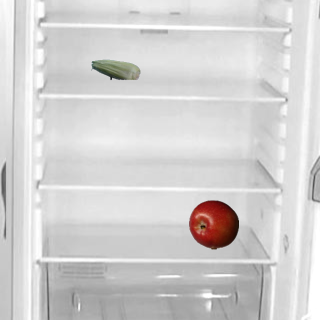Apple Braeburn: (188, 199, 238, 249)
Corn Husk: (90, 44, 140, 94)
